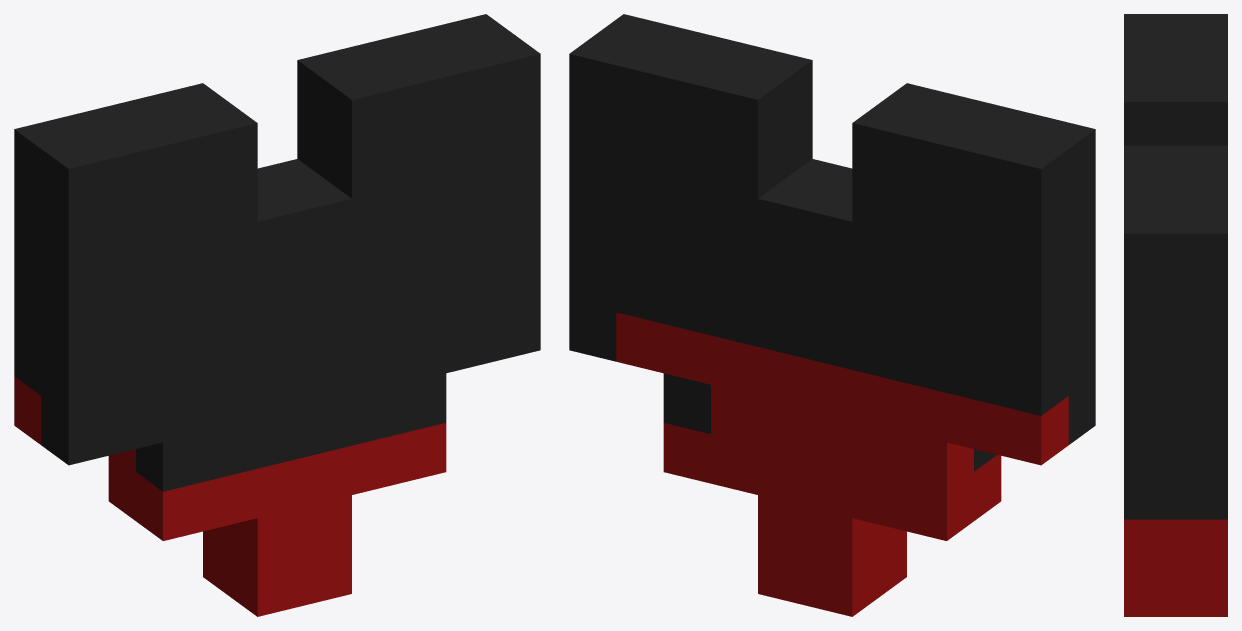
Rendered from Anubis_25-3.obj.
3 renders of one model, left to right at view 1: azimuth 30°, elevation 25°; view 2: azimuth 150°, elevation 25°; view 3: azimuth 270°, elevation 25°, orthographic. The views are drawn at different scales.
Bounding box in the file's own units: 1 × 1 × 0.2.
Materials: 1 (1 with a texture image).
